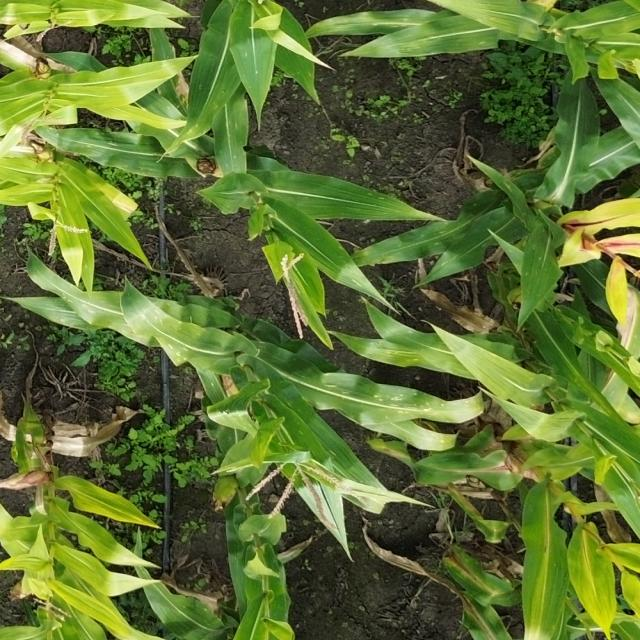gray-leaf-spot: (136, 308, 192, 362), (56, 287, 104, 317), (365, 11, 425, 35)
northern-leaf-blight: (449, 556, 499, 592), (619, 291, 640, 370), (462, 600, 498, 637), (462, 458, 524, 479), (101, 186, 142, 215), (469, 430, 510, 458), (544, 173, 575, 206)
southern-leaf-blight: (341, 383, 454, 423), (213, 107, 245, 175), (64, 132, 134, 160), (407, 220, 465, 250), (238, 49, 276, 92), (525, 239, 556, 290), (557, 365, 601, 394), (190, 78, 229, 110), (55, 49, 98, 72)
